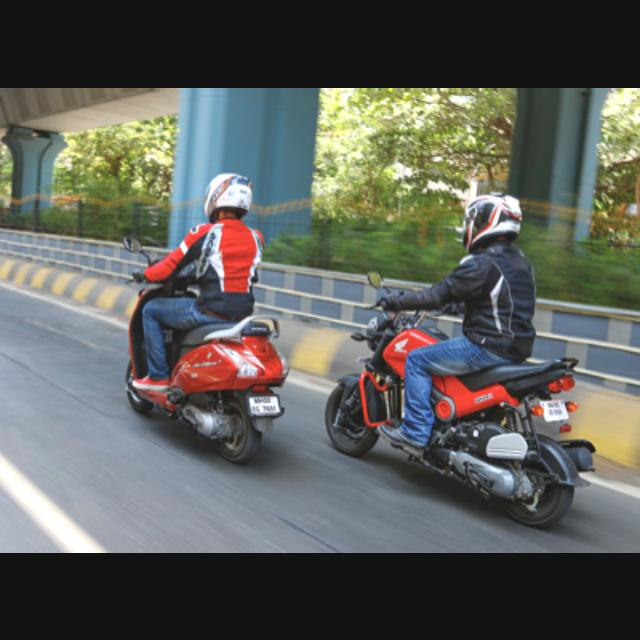With Helmet: (461, 188, 527, 260), (198, 165, 258, 221)
